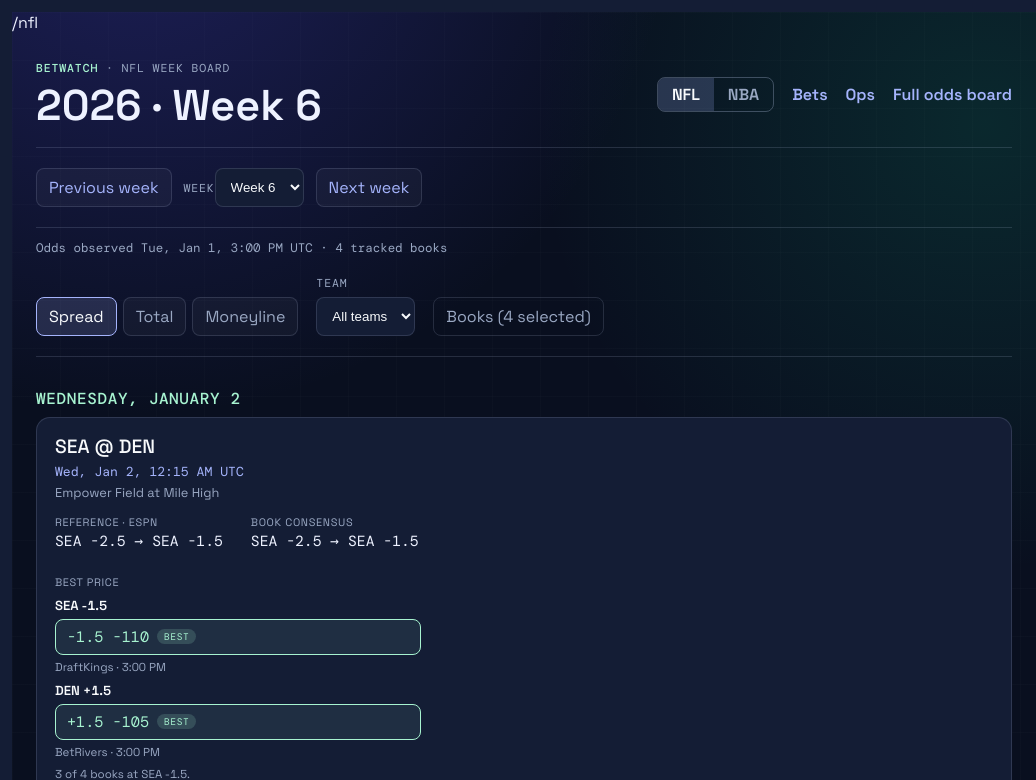
Test: SlatePage week board › filters by team without asking the server again
The image size is (1036, 780).
Expected: the link "SEA @ DEN" is shown, [55,434,155,459]
Select "KC" in the dropdown labelled "Team" at (366, 316), box [316,297,415,336]
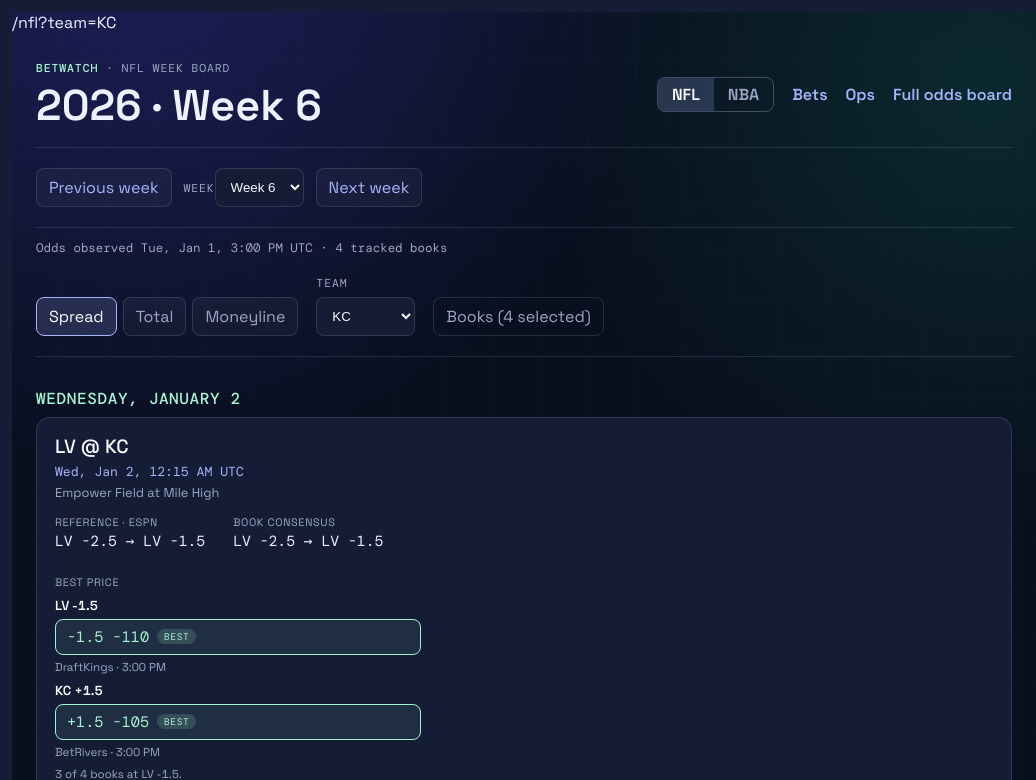
Expected: the link "LV @ KC" is shown, [55,434,129,459]
Expected: the link "SEA @ DEN" is gone
